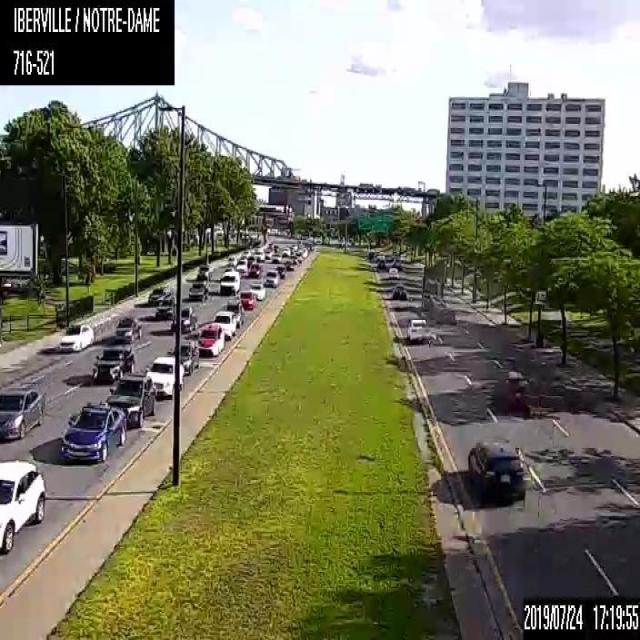vehicle: (0, 456, 45, 552), (61, 401, 125, 461), (466, 437, 524, 497), (104, 375, 156, 426), (0, 384, 45, 441), (422, 264, 455, 324), (144, 356, 183, 398), (493, 369, 531, 412), (90, 346, 134, 380), (56, 321, 92, 352), (167, 340, 199, 373), (195, 323, 224, 355), (210, 309, 236, 340), (170, 304, 196, 332), (115, 317, 142, 341), (154, 295, 176, 319), (223, 301, 244, 326), (406, 318, 428, 341), (147, 285, 173, 304), (219, 270, 239, 293), (235, 289, 255, 309), (188, 280, 208, 299), (390, 282, 408, 300), (249, 282, 265, 299), (264, 268, 278, 286), (248, 262, 263, 276), (196, 264, 211, 278), (251, 248, 264, 260), (274, 264, 285, 276), (236, 259, 247, 270), (282, 258, 292, 270), (226, 254, 236, 265), (388, 266, 398, 277), (376, 255, 385, 267), (271, 252, 282, 261), (264, 248, 272, 258), (282, 246, 290, 255), (241, 250, 250, 256), (223, 266, 234, 270)
